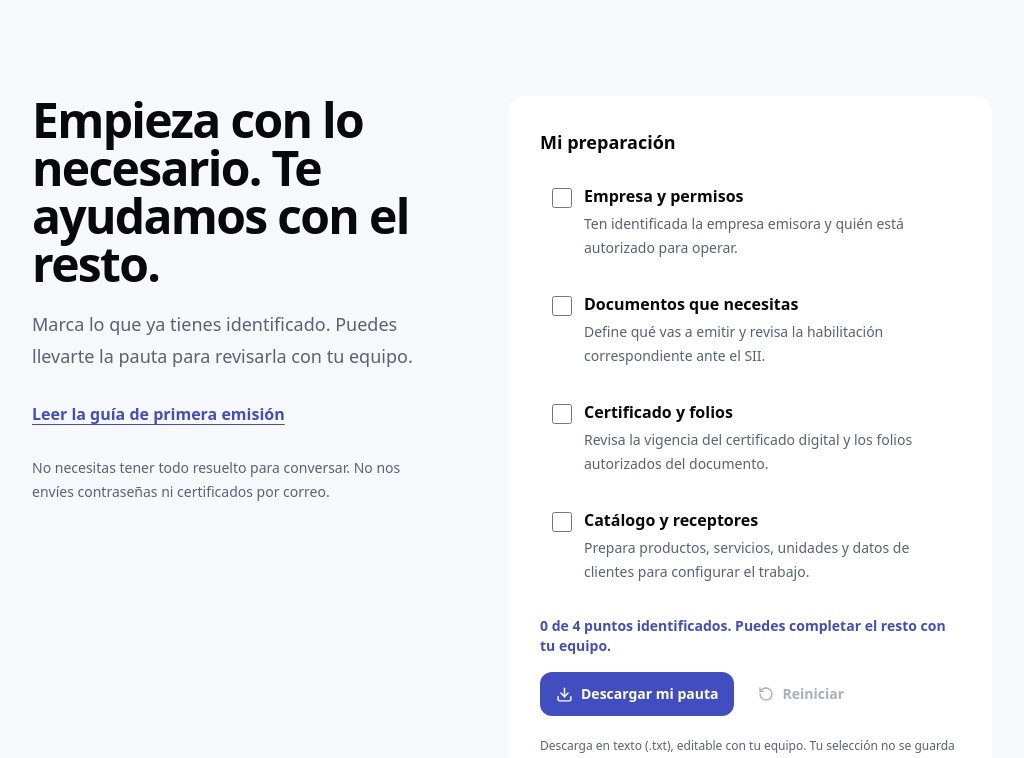
Test: personal preparation › downloads the actual selection and clears stale success on edits
Click the 1st checkbox. click: (562, 198)
box: [552,188,572,208]
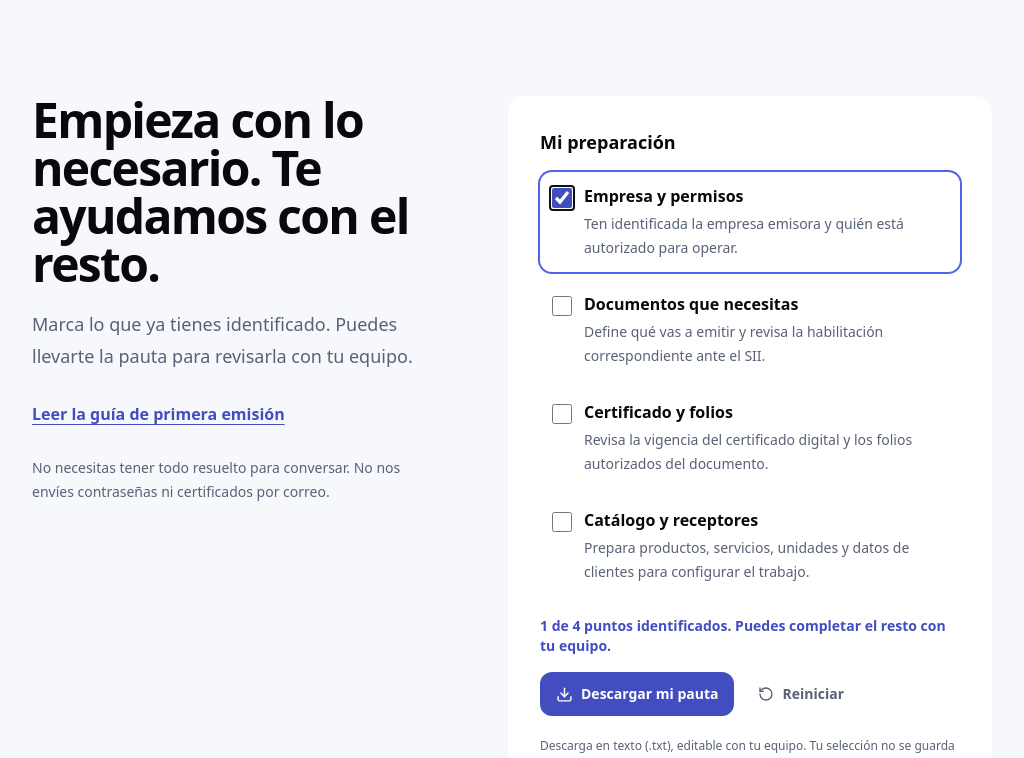
Click the button "Descargar mi pauta". click: (637, 694)
box: [540,672,734,716]
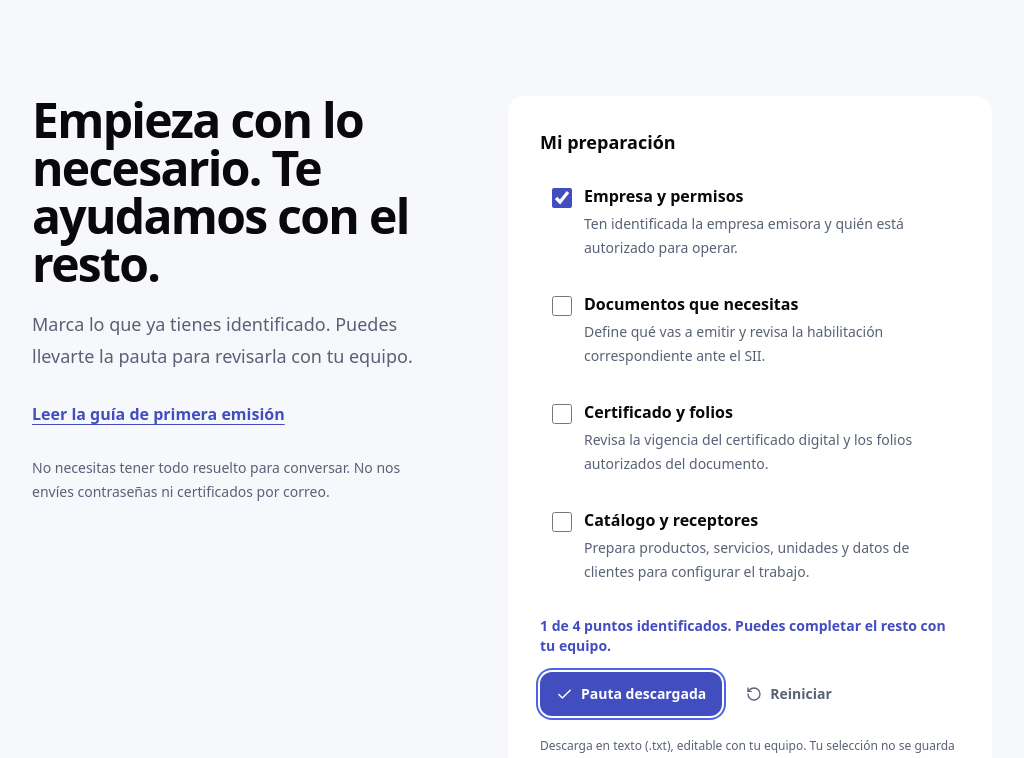
Result: the button "Pauta descargada" is shown at [540,672,722,716]
Click the 2nd checkbox. click: (562, 306)
box: [552,296,572,316]
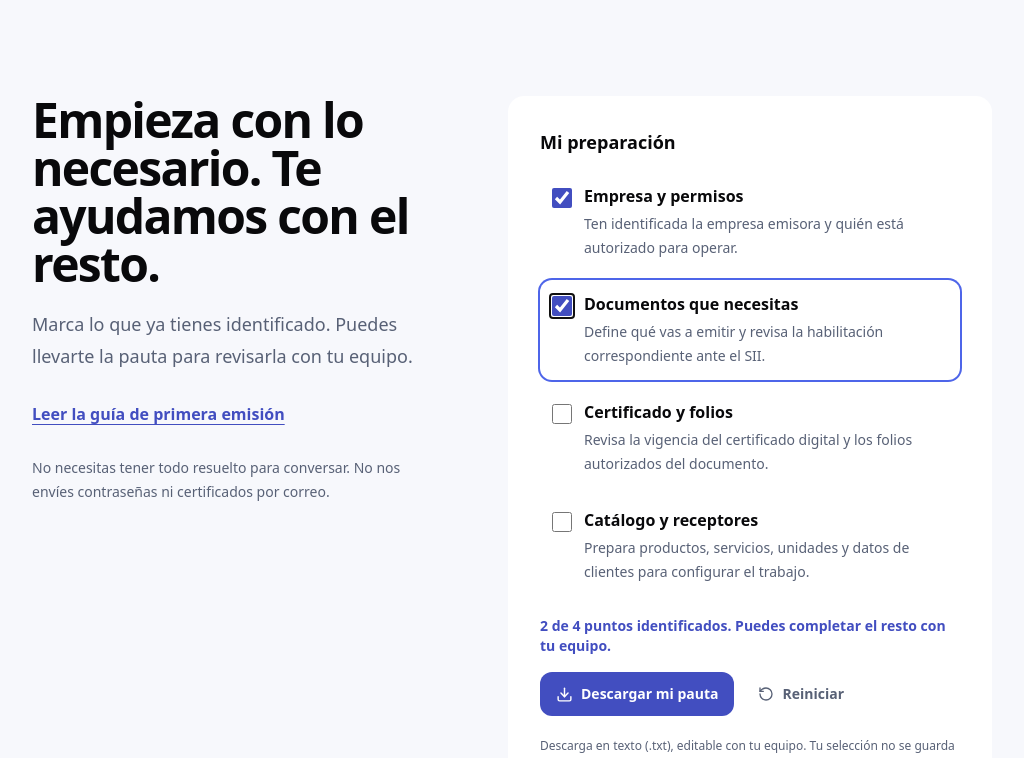
Result: the button "Descargar mi pauta" is shown at [540,672,734,716]
